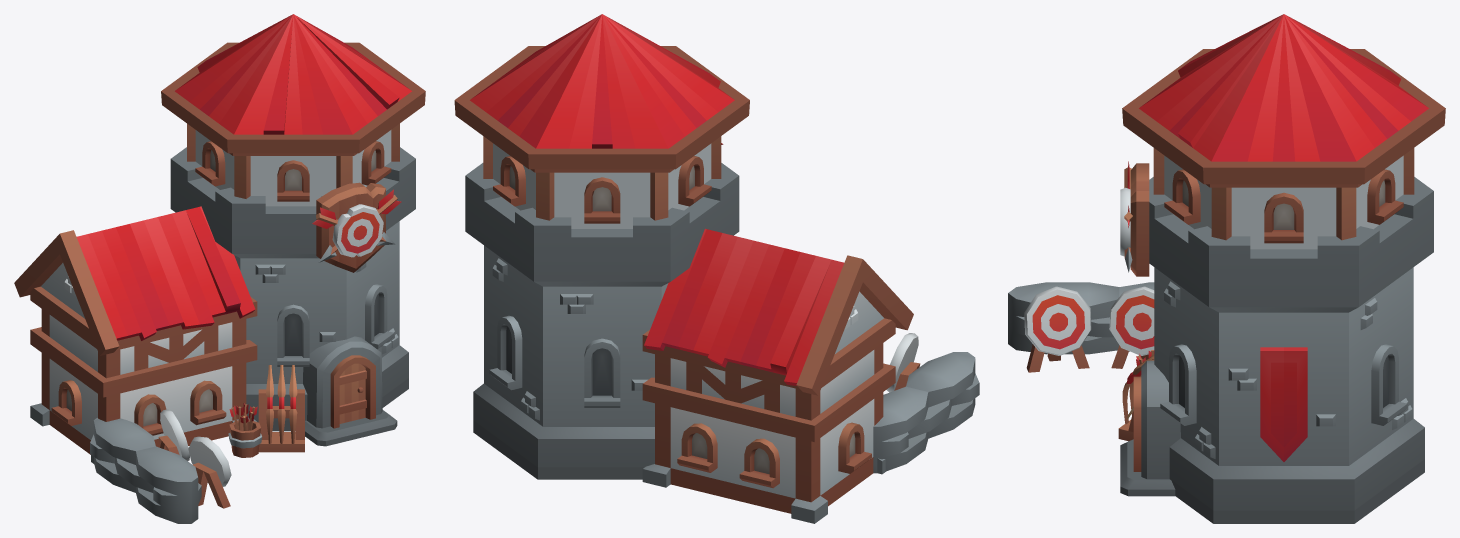
Rendered from archeryrange.glb.
3 renders of one model, left to right at view 1: azimuth 30°, elevation 25°; view 2: azimuth 150°, elevation 25°; view 3: azimuth 270°, elevation 25°, orthographic. The views are drawn at different scales.
Parts seen in each view (by area): view 1: archeryrange; view 2: archeryrange; view 3: archeryrange.
Part boxes in pixels (bbox=[...]): archeryrange: bbox=[14, 14, 425, 523]; archeryrange: bbox=[454, 14, 979, 523]; archeryrange: bbox=[1008, 14, 1445, 523].
Bounding box in the file's own units: 0.8353 × 0.8959 × 0.7754.
1 material, 1 textured.
